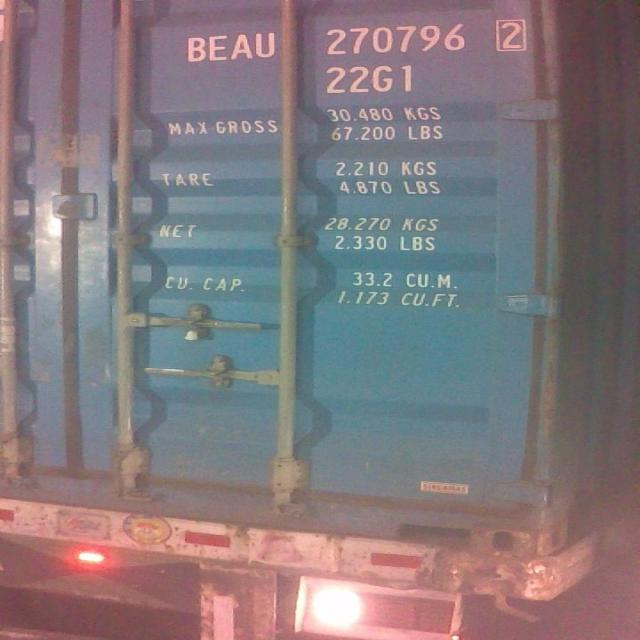seal: (178, 308, 207, 343)
